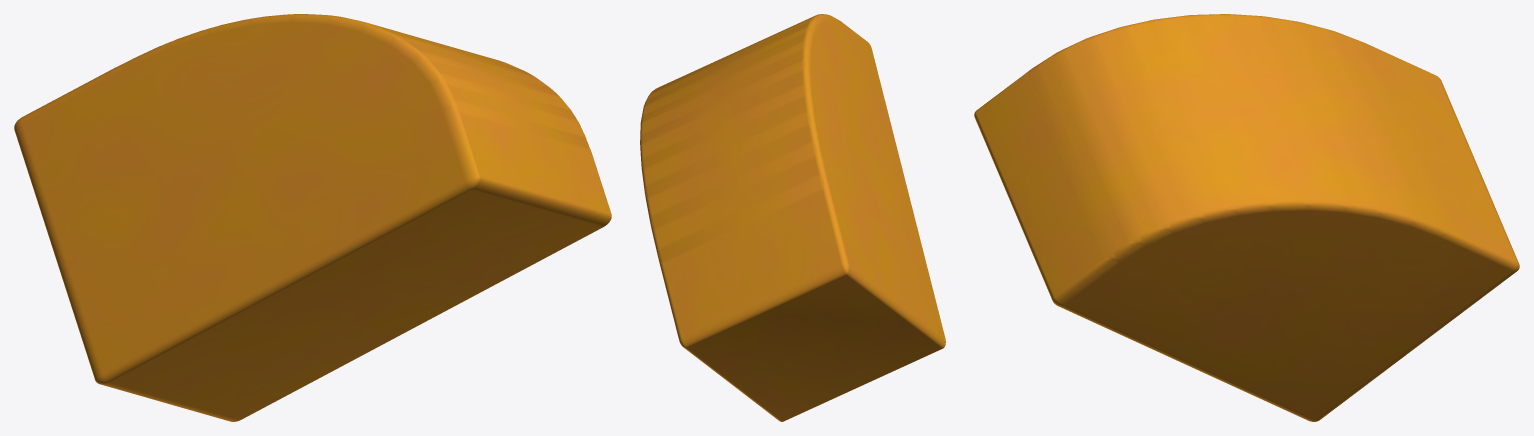
File: peach.glb
The picture shows the model from 3 angles, left to right: view 1: azimuth 30°, elevation 25°; view 2: azimuth 150°, elevation 25°; view 3: azimuth 270°, elevation 25°; orthographic projection. The views are drawn at different scales.
Parts seen in each view (by area): view 1: peach.001; view 2: peach.001; view 3: peach.001.
Part boxes in pixels (x1=…): peach.001: x1=14, y1=14, x2=611, y2=421; peach.001: x1=640, y1=14, x2=945, y2=421; peach.001: x1=974, y1=14, x2=1519, y2=421.
Size of the model in its own units: 0.7405 by 0.7424 by 0.8655.
1 material, 1 textured.
